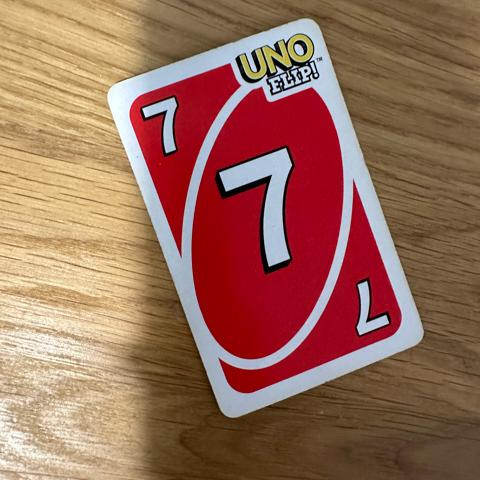9_green: (216, 146, 296, 273), (140, 97, 178, 155), (354, 280, 390, 338)
